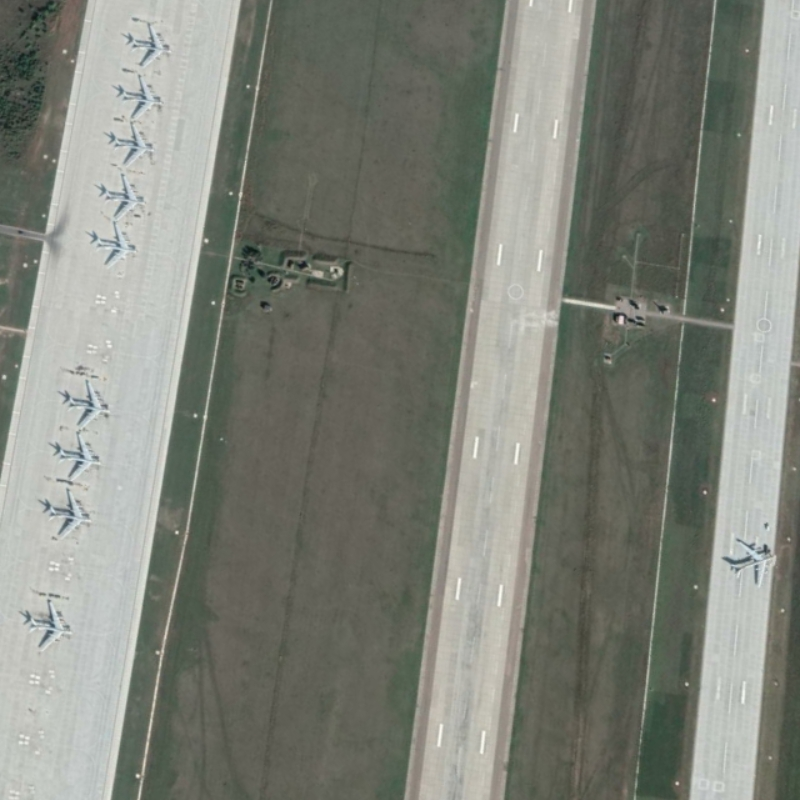A17: (24, 598, 76, 655), (725, 535, 779, 588), (43, 486, 94, 542), (54, 430, 105, 484), (65, 377, 113, 431), (100, 172, 149, 222), (108, 121, 157, 169), (91, 221, 139, 269), (117, 74, 165, 120), (127, 21, 175, 67)
